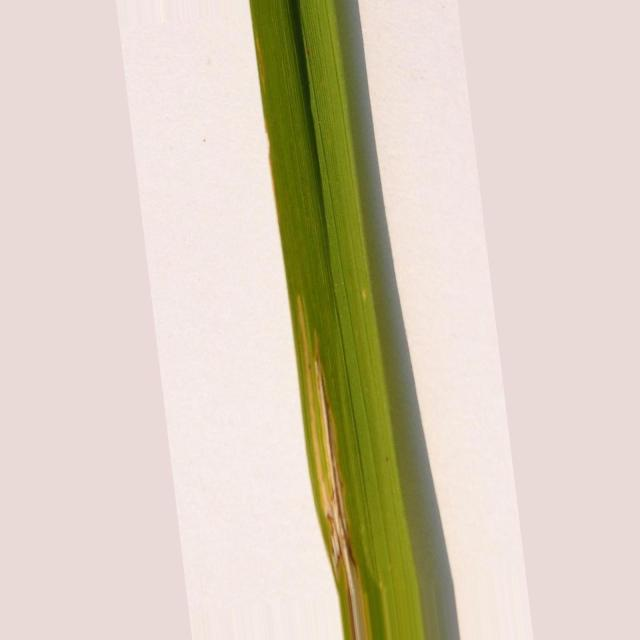Bacterial_Leaf_Blight: (295, 295, 371, 639)
